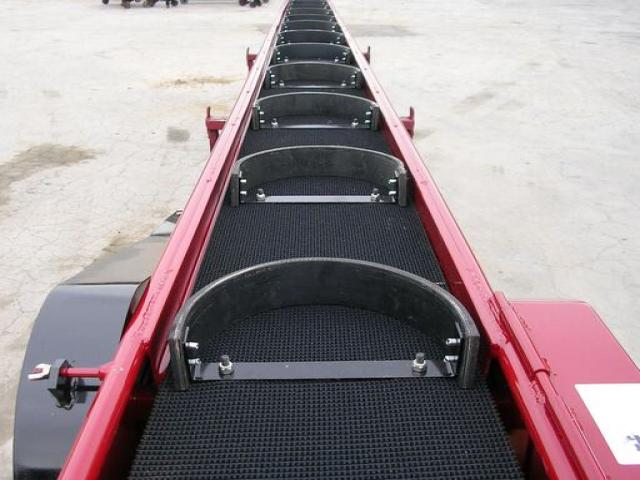conveyor: (44, 5, 640, 480)
